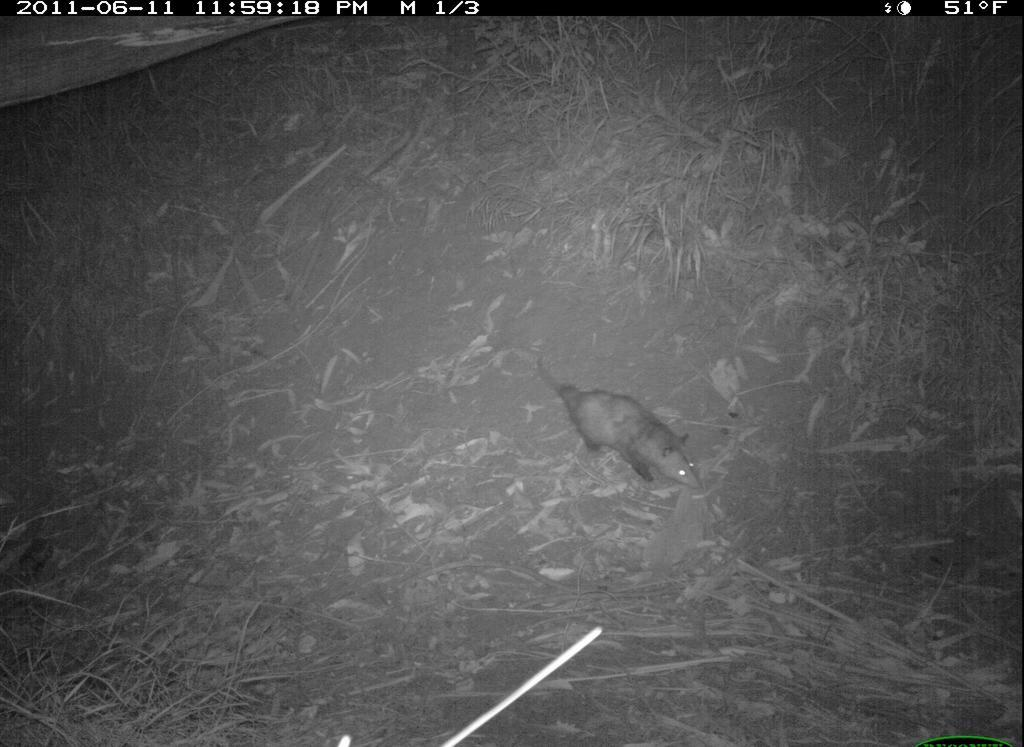opossum: (518, 344, 711, 507)
